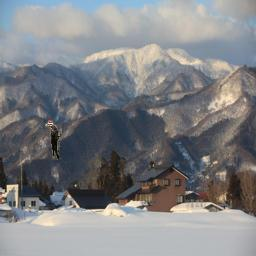Woodpecker: (45, 120, 62, 160)
